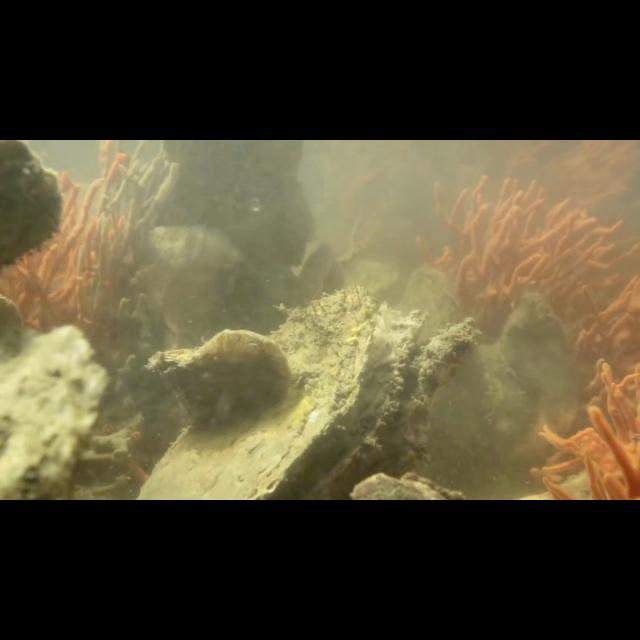Oyster-Closed: (438, 290, 581, 500), (2, 324, 117, 497)
Oyster-Open: (131, 274, 495, 497)
